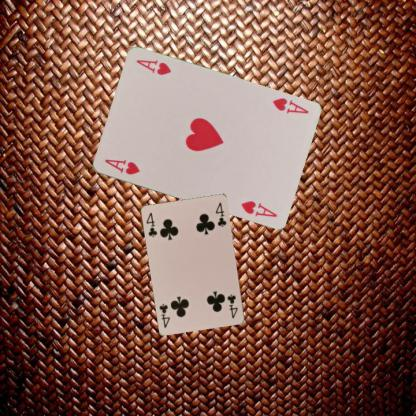4c: (144, 210, 158, 239), (225, 292, 239, 319)
Ah: (269, 95, 310, 115), (102, 157, 141, 176)
